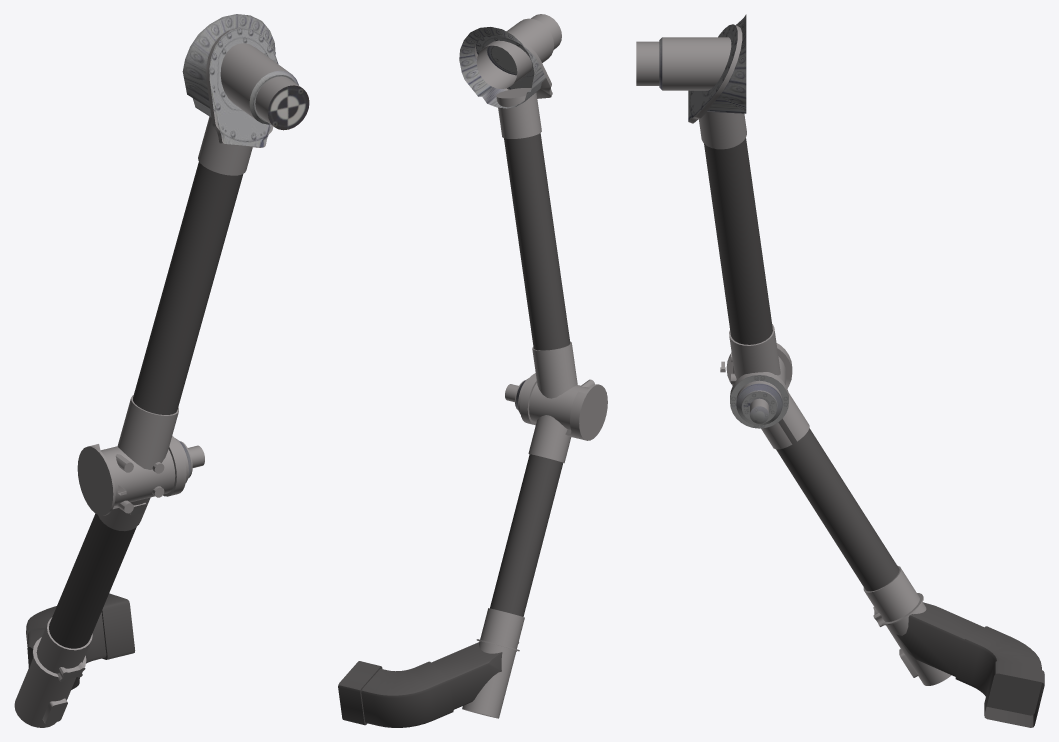
File: Perseverance_rear_bogie_arm.glb
The picture shows the model from 3 angles, left to right: view 1: azimuth 30°, elevation 25°; view 2: azimuth 150°, elevation 25°; view 3: azimuth 270°, elevation 25°; orthographic projection. The views are drawn at different scales.
Parts seen in each view (by area): view 1: susp.rear_bogie_arm; view 2: susp.rear_bogie_arm; view 3: susp.rear_bogie_arm.
Part boxes in pixels (<box>): susp.rear_bogie_arm: <box>14,14,309,727</box>; susp.rear_bogie_arm: <box>338,14,607,727</box>; susp.rear_bogie_arm: <box>636,14,1044,727</box>.
Size of the model in its own units: 0.2895 by 1.22 by 0.6401.
4 materials, 2 textured.
